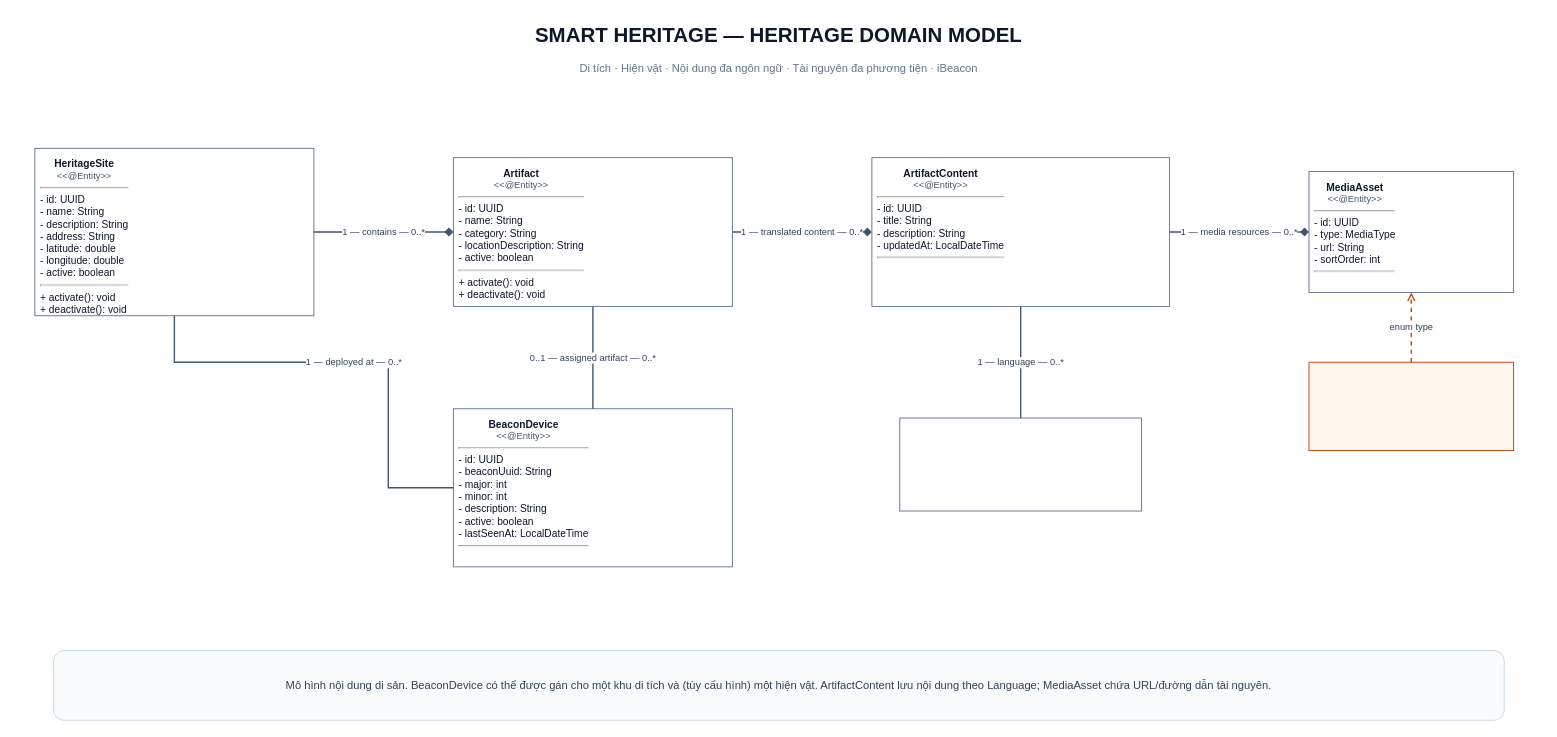
Some shapes in this 1557 by 737 pixel diagram are drawn without their labels. The shapes that lost their labels are listed below. From the top down, each one's centre as x and y in pixels, then its label:
At (1411,406): "MediaType <<enum>> IMAGE VIDEO AUDIO".
At (1020,464): "Language <<@Entity>> - code: String - name: String - enabled: boolean".
